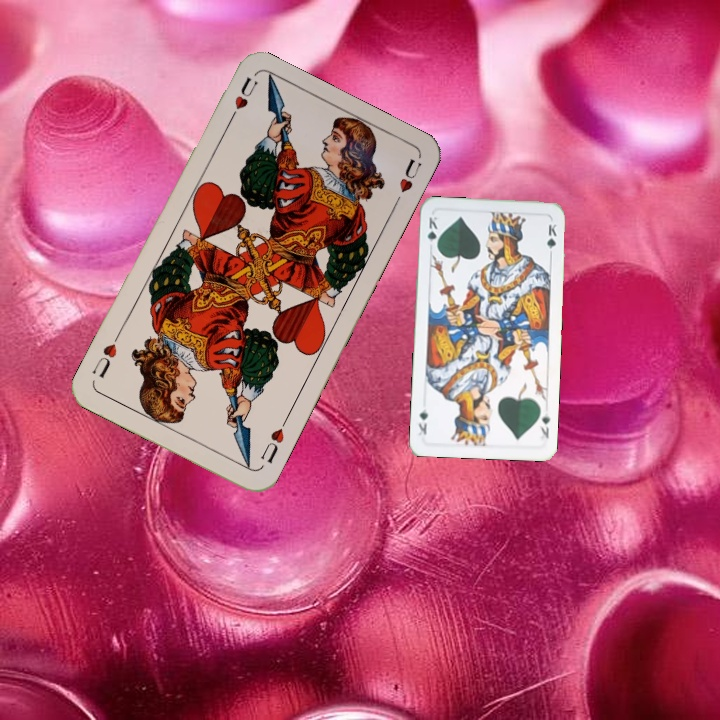GK: (424, 213, 440, 252), (536, 408, 552, 441)
HU: (223, 73, 260, 127), (256, 415, 290, 467)
